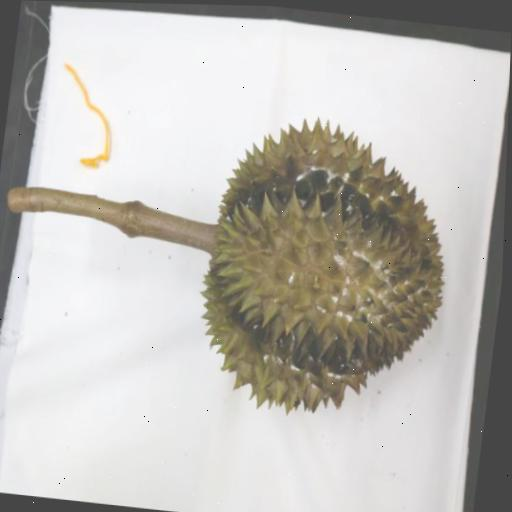mold: (0, 50, 491, 457)
